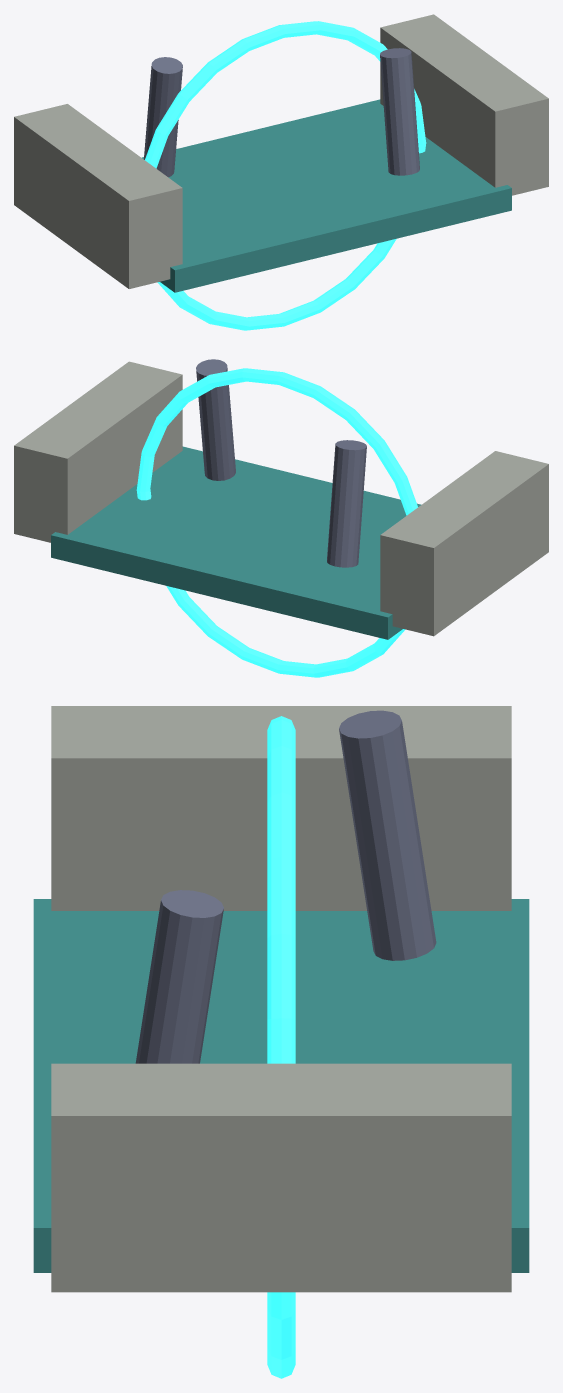
The model's file is sunken-bastion.glb.
3 views of the same model, one above another, from view 1: azimuth 30°, elevation 25°; view 2: azimuth 150°, elevation 25°; view 3: azimuth 270°, elevation 25° (orthographic). The views are drawn at different scales.
Parts seen in each view (by area): view 1: bastion-flooded-floor, bastion-left-rampart, bastion-right-rampart, bastion-tide-ring, bastion-anchor-post-1, bastion-anchor-post-0; view 2: bastion-flooded-floor, bastion-left-rampart, bastion-right-rampart, bastion-tide-ring, bastion-anchor-post-0, bastion-anchor-post-1; view 3: bastion-right-rampart, bastion-left-rampart, bastion-flooded-floor, bastion-anchor-post-0, bastion-tide-ring, bastion-anchor-post-1.
Boxes of the visible parts, x1,y1,x2,y2 form: bastion-flooded-floor: (142,99,511,292); bastion-left-rampart: (14,104,182,288); bastion-right-rampart: (380,14,548,195); bastion-tide-ring: (145,21,426,330); bastion-anchor-post-1: (380,48,419,175); bastion-anchor-post-0: (144,57,182,177); bastion-flooded-floor: (51,446,421,639); bastion-left-rampart: (380,451,548,636); bastion-right-rampart: (14,361,182,542); bastion-tide-ring: (136,368,417,677); bastion-anchor-post-0: (327,440,366,567); bastion-anchor-post-1: (196,359,235,480); bastion-right-rampart: (51,1063,511,1292); bastion-left-rampart: (51,706,511,910); bastion-flooded-floor: (33,899,529,1272); bastion-anchor-post-0: (339,710,436,960); bastion-tide-ring: (267,716,295,1378); bastion-anchor-post-1: (135,890,223,1063).
Size of the model in its own units: 2.74 by 1.88 by 1.4.
